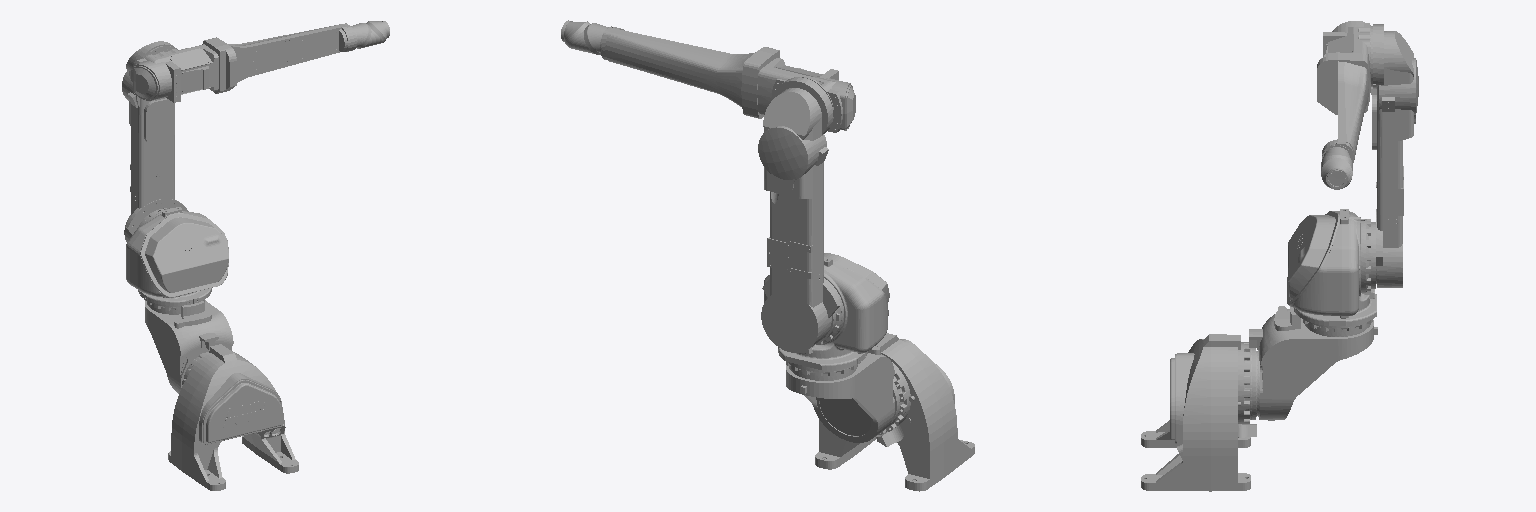
robot.urdf — irb5500_7axis:
<?xml version="1.0" ?>
<!-- =================================================================================== -->
<!-- |    This document was autogenerated by xacro from [local-path]/src/abb_irb5500_7axis_support/abb_irb5500_7axis_support/urdf/irb5500_7axis.xacro | -->
<!-- |    EDITING THIS FILE BY HAND IS NOT RECOMMENDED                                 | -->
<!-- =================================================================================== -->
<robot name="irb5500_7axis">
    <material name="silver">
        <color rgba="0.700 0.700 0.700 1.000" />
    </material>
    <transmission name="joint_7_tran">
        <type>transmission_interface/SimpleTransmission</type>
        <joint name="joint_7">
            <hardwareInterface>hardware_interface/EffortJointInterface</hardwareInterface>
        </joint>
        <actuator name="joint_7_actr">
            <hardwareInterface>hardware_interface/EffortJointInterface</hardwareInterface>
            <mechanicalReduction>1</mechanicalReduction>
        </actuator>
    </transmission>
    <transmission name="joint_1_tran">
        <type>transmission_interface/SimpleTransmission</type>
        <joint name="joint_1">
            <hardwareInterface>hardware_interface/EffortJointInterface</hardwareInterface>
        </joint>
        <actuator name="joint_1_actr">
            <hardwareInterface>hardware_interface/EffortJointInterface</hardwareInterface>
            <mechanicalReduction>1</mechanicalReduction>
        </actuator>
    </transmission>
    <transmission name="joint_2_tran">
        <type>transmission_interface/SimpleTransmission</type>
        <joint name="joint_2">
            <hardwareInterface>hardware_interface/EffortJointInterface</hardwareInterface>
        </joint>
        <actuator name="joint_2_actr">
            <hardwareInterface>hardware_interface/EffortJointInterface</hardwareInterface>
            <mechanicalReduction>1</mechanicalReduction>
        </actuator>
    </transmission>
    <transmission name="joint_3_tran">
        <type>transmission_interface/SimpleTransmission</type>
        <joint name="joint_3">
            <hardwareInterface>hardware_interface/EffortJointInterface</hardwareInterface>
        </joint>
        <actuator name="joint_3_actr">
            <hardwareInterface>hardware_interface/EffortJointInterface</hardwareInterface>
            <mechanicalReduction>1</mechanicalReduction>
        </actuator>
    </transmission>
    <transmission name="joint_4_tran">
        <type>transmission_interface/SimpleTransmission</type>
        <joint name="joint_4">
            <hardwareInterface>hardware_interface/EffortJointInterface</hardwareInterface>
        </joint>
        <actuator name="joint_4_actr">
            <hardwareInterface>hardware_interface/EffortJointInterface</hardwareInterface>
            <mechanicalReduction>1</mechanicalReduction>
        </actuator>
    </transmission>
    <transmission name="joint_5_tran">
        <type>transmission_interface/SimpleTransmission</type>
        <joint name="joint_5">
            <hardwareInterface>hardware_interface/EffortJointInterface</hardwareInterface>
        </joint>
        <actuator name="joint_5_actr">
            <hardwareInterface>hardware_interface/EffortJointInterface</hardwareInterface>
            <mechanicalReduction>1</mechanicalReduction>
        </actuator>
    </transmission>
    <transmission name="joint_6_tran">
        <type>transmission_interface/SimpleTransmission</type>
        <joint name="joint_6">
            <hardwareInterface>hardware_interface/EffortJointInterface</hardwareInterface>
        </joint>
        <actuator name="joint_6_actr">
            <hardwareInterface>hardware_interface/EffortJointInterface</hardwareInterface>
            <mechanicalReduction>1</mechanicalReduction>
        </actuator>
    </transmission>
    <gazebo>
        <plugin filename="libgazebo_ros_control.so" name="control" />
        <plugin name="gazebo_ros_control">
            <robotNamespace>/</robotNamespace>
        </plugin>
    </gazebo>
    <gazebo reference="base_link">
        <material>Gazebo/Silver</material>
        <mu1>0.2</mu1>
        <mu2>0.2</mu2>
        <selfCollide>true</selfCollide>
        <gravity>true</gravity>
    </gazebo>
    <gazebo reference="link_1_1">
        <material>Gazebo/Silver</material>
        <mu1>0.2</mu1>
        <mu2>0.2</mu2>
        <selfCollide>true</selfCollide>
    </gazebo>
    <gazebo reference="link_2_1">
        <material>Gazebo/Silver</material>
        <mu1>0.2</mu1>
        <mu2>0.2</mu2>
        <selfCollide>true</selfCollide>
    </gazebo>
    <gazebo reference="link_3_1">
        <material>Gazebo/Silver</material>
        <mu1>0.2</mu1>
        <mu2>0.2</mu2>
        <selfCollide>true</selfCollide>
    </gazebo>
    <gazebo reference="link_4_1">
        <material>Gazebo/Silver</material>
        <mu1>0.2</mu1>
        <mu2>0.2</mu2>
        <selfCollide>true</selfCollide>
    </gazebo>
    <gazebo reference="link_5_1">
        <material>Gazebo/Silver</material>
        <mu1>0.2</mu1>
        <mu2>0.2</mu2>
        <selfCollide>true</selfCollide>
    </gazebo>
    <gazebo reference="link_6_1">
        <material>Gazebo/Silver</material>
        <mu1>0.2</mu1>
        <mu2>0.2</mu2>
        <selfCollide>true</selfCollide>
    </gazebo>
    <gazebo reference="link_7_1">
        <material>Gazebo/Silver</material>
        <mu1>0.2</mu1>
        <mu2>0.2</mu2>
        <selfCollide>true</selfCollide>
    </gazebo>
    <gazebo reference="link_8_1">
        <material>Gazebo/Silver</material>
        <mu1>0.2</mu1>
        <mu2>0.2</mu2>
        <selfCollide>true</selfCollide>
    </gazebo>
    <link name="base_link">
        <inertial>
            <origin rpy="0 0 0" xyz="0.018926671403852433 0.03635439701106554 0.40145852174959484" />
            <mass value="1107.0385298863" />
            <inertia ixx="61.225944" ixy="-0.092907" ixz="0.046518" iyy="90.595486" iyz="-6.385665" izz="64.881264" />
        </inertial>
        <visual>
            <origin rpy="0 0 0" xyz="0 0 0" />
            <geometry>
                <mesh filename="package://abb_irb5500_7axis_support/meshes/base_link.stl" scale="0.001 0.001 0.001" />
            </geometry>
            <material name="silver" />
        </visual>
        <collision>
            <origin rpy="0 0 0" xyz="0 0 0" />
            <geometry>
                <mesh filename="package://abb_irb5500_7axis_support/meshes/base_link.stl" scale="0.001 0.001 0.001" />
            </geometry>
        </collision>
    </link>
    <link name="link_1_1">
        <inertial>
            <origin rpy="0 0 0" xyz="0.0011555100547077264 0.24509135858373476 0.17382144663815557" />
            <mass value="514.8648420210297" />
            <inertia ixx="30.992741" ixy="-0.046007" ixz="0.056101" iyy="22.570346" iyz="-10.318452" izz="23.26715" />
        </inertial>
        <visual>
            <origin rpy="0 0 0" xyz="-0.01678 -0.29242 -0.53198" />
            <geometry>
                <mesh filename="package://abb_irb5500_7axis_support/meshes/link_1_1.stl" scale="0.001 0.001 0.001" />
            </geometry>
            <material name="silver" />
        </visual>
        <collision>
            <origin rpy="0 0 0" xyz="-0.01678 -0.29242 -0.53198" />
            <geometry>
                <mesh filename="package://abb_irb5500_7axis_support/meshes/link_1_1.stl" scale="0.001 0.001 0.001" />
            </geometry>
        </collision>
    </link>
    <link name="link_2_1">
        <inertial>
            <origin rpy="0 0 0" xyz="0.0012491514615240729 -0.025583333888403836 0.34431214152787903" />
            <mass value="1176.3951689096798" />
            <inertia ixx="50.070546" ixy="-0.026244" ixz="-0.030935" iyy="64.129491" iyz="-1.140556" izz="51.509297" />
        </inertial>
        <visual>
            <origin rpy="0 0 0" xyz="-0.018328 -0.77042 -0.929477" />
            <geometry>
                <mesh filename="package://abb_irb5500_7axis_support/meshes/link_2_1.stl" scale="0.001 0.001 0.001" />
            </geometry>
            <material name="silver" />
        </visual>
        <collision>
            <origin rpy="0 0 0" xyz="-0.018328 -0.77042 -0.929477" />
            <geometry>
                <mesh filename="package://abb_irb5500_7axis_support/meshes/link_2_1.stl" scale="0.001 0.001 0.001" />
            </geometry>
        </collision>
    </link>
    <link name="link_3_1">
        <inertial>
            <origin rpy="0 0 0" xyz="0.0028689107223312145 0.08648406695372635 0.6879406498154552" />
            <mass value="723.6999417468929" />
            <inertia ixx="160.032498" ixy="-0.024939" ixz="-0.618553" iyy="163.23224" iyz="-2.562707" izz="8.467489" />
        </inertial>
        <visual>
            <origin rpy="0 0 0" xyz="-0.020026 -1.00142 -1.365474" />
            <geometry>
                <mesh filename="package://abb_irb5500_7axis_support/meshes/link_3_1.stl" scale="0.001 0.001 0.001" />
            </geometry>
            <material name="silver" />
        </visual>
        <collision>
            <origin rpy="0 0 0" xyz="-0.020026 -1.00142 -1.365474" />
            <geometry>
                <mesh filename="package://abb_irb5500_7axis_support/meshes/link_3_1.stl" scale="0.001 0.001 0.001" />
            </geometry>
        </collision>
    </link>
    <link name="link_4_1">
        <inertial>
            <origin rpy="0 0 0" xyz="0.3972513240326173 -0.14845866938299856 -0.0010321643174204809" />
            <mass value="607.3432804807295" />
            <inertia ixx="6.246992" ixy="3.559257" ixz="0.437972" iyy="118.657638" iyz="0.030035" izz="118.264451" />
        </inertial>
        <visual>
            <origin rpy="0 0 0" xyz="-0.02509 -0.98742 -2.665464" />
            <geometry>
                <mesh filename="package://abb_irb5500_7axis_support/meshes/link_4_1.stl" scale="0.001 0.001 0.001" />
            </geometry>
            <material name="silver" />
        </visual>
        <collision>
            <origin rpy="0 0 0" xyz="-0.02509 -0.98742 -2.665464" />
            <geometry>
                <mesh filename="package://abb_irb5500_7axis_support/meshes/link_4_1.stl" scale="0.001 0.001 0.001" />
            </geometry>
        </collision>
    </link>
    <link name="link_5_1">
        <inertial>
            <origin rpy="0 0 0" xyz="0.04510451484501843 -1.6966850335808914e-07 0.015465258143359417" />
            <mass value="13.246564877496217" />
            <inertia ixx="0.04349" ixy="0.0" ixz="-0.006399" iyy="0.02917" iyz="-0.0" izz="0.036873" />
        </inertial>
        <visual>
            <origin rpy="0 0 0" xyz="-1.466079 -0.76542 -2.659851" />
            <geometry>
                <mesh filename="package://abb_irb5500_7axis_support/meshes/link_5_1.stl" scale="0.001 0.001 0.001" />
            </geometry>
            <material name="silver" />
        </visual>
        <collision>
            <origin rpy="0 0 0" xyz="-1.466079 -0.76542 -2.659851" />
            <geometry>
                <mesh filename="package://abb_irb5500_7axis_support/meshes/link_5_1.stl" scale="0.001 0.001 0.001" />
            </geometry>
        </collision>
    </link>
    <link name="link_6_1">
        <inertial>
            <origin rpy="0 0 0" xyz="0.059847742372347135 -3.194301083642159e-07 -0.022734536484888768" />
            <mass value="22.90378370207616" />
            <inertia ixx="0.078074" ixy="-0.0" ixz="7.3e-05" iyy="0.075709" iyz="0.0" izz="0.096705" />
        </inertial>
        <visual>
            <origin rpy="0 0 0" xyz="-1.54048 -0.76542 -2.65612" />
            <geometry>
                <mesh filename="package://abb_irb5500_7axis_support/meshes/link_6_1.stl" scale="0.001 0.001 0.001" />
            </geometry>
            <material name="silver" />
        </visual>
        <collision>
            <origin rpy="0 0 0" xyz="-1.54048 -0.76542 -2.65612" />
            <geometry>
                <mesh filename="package://abb_irb5500_7axis_support/meshes/link_6_1.stl" scale="0.001 0.001 0.001" />
            </geometry>
        </collision>
    </link>
    <link name="link_7_1">
        <inertial>
            <origin rpy="0 0 0" xyz="0.027381461625446413 -4.779980121716321e-07 0.014960336074338887" />
            <mass value="11.027488801145296" />
            <inertia ixx="0.031573" ixy="0.0" ixz="0.005881" iyy="0.022716" iyz="-0.0" izz="0.028182" />
        </inertial>
        <visual>
            <origin rpy="0 0 0" xyz="-1.660351 -0.76542 -2.655653" />
            <geometry>
                <mesh filename="package://abb_irb5500_7axis_support/meshes/link_7_1.stl" scale="0.001 0.001 0.001" />
            </geometry>
            <material name="silver" />
        </visual>
        <collision>
            <origin rpy="0 0 0" xyz="-1.660351 -0.76542 -2.655653" />
            <geometry>
                <mesh filename="package://abb_irb5500_7axis_support/meshes/link_7_1.stl" scale="0.001 0.001 0.001" />
            </geometry>
        </collision>
    </link>
    <link name="link_8_1">
        <inertial>
            <origin rpy="0 0 0" xyz="0.004368020622074642 -0.00010515307768488302 -0.0001227284237961257" />
            <mass value="0.35749934255251287" />
            <inertia ixx="0.001069" ixy="-0.0" ixz="-2e-06" iyy="0.000548" iyz="-5e-06" izz="0.000527" />
        </inertial>
        <visual>
            <origin rpy="0 0 0" xyz="-1.737286 -0.76542 -2.658795" />
            <geometry>
                <mesh filename="package://abb_irb5500_7axis_support/meshes/link_8_1.stl" scale="0.001 0.001 0.001" />
            </geometry>
            <material name="silver" />
        </visual>
        <collision>
            <origin rpy="0 0 0" xyz="-1.737286 -0.76542 -2.658795" />
            <geometry>
                <mesh filename="package://abb_irb5500_7axis_support/meshes/link_8_1.stl" scale="0.001 0.001 0.001" />
            </geometry>
        </collision>
    </link>
    <link name="temp_7" />
    <joint name="joint_7" type="revolute">
        <origin rpy="0 0 0" xyz="0 0 0" />
        <parent link="temp_7" />
        <child link="link_1_1" />
        <axis xyz="0.0 -1.0 0.0" />
        <mimic joint="joint_7_deg" multiplier="17.4533" offset="0" />
        <limit effort="100" lower="-2.356194" upper="2.356194" velocity="100" />
    </joint>
    <joint name="joint_1" type="revolute">
        <origin rpy="0 0 0" xyz="0.001548 0.478 0.397497" />
        <parent link="link_1_1" />
        <child link="link_2_1" />
        <axis xyz="0.003895 -0.0 0.999992" />
        <limit effort="100" lower="-0.261799" upper="3.403392" velocity="100" />
    </joint>
    <joint name="joint_2" type="revolute">
        <origin rpy="0 0 0" xyz="0.001698 0.231 0.435997" />
        <parent link="link_2_1" />
        <child link="link_3_1" />
        <axis xyz="0.0 1.0 0.0" />
        <limit effort="100" lower="-1.134464" upper="2.617994" velocity="100" />
    </joint>
    <joint name="joint_3" type="revolute">
        <origin rpy="0 0 0" xyz="0.005064 -0.014 1.29999" />
        <parent link="link_3_1" />
        <child link="link_4_1" />
        <axis xyz="-0.0 1.0 -0.0" />
        <limit effort="100" lower="-1.22173" upper="1.22173" velocity="100" />
    </joint>
    <joint name="joint_4" type="revolute">
        <origin rpy="0 0 0" xyz="1.440989 -0.222 -0.005613" />
        <parent link="link_4_1" />
        <child link="link_5_1" />
        <axis xyz="0.999992 -0.0 -0.003895" />
        <limit effort="100" lower="-6.0" upper="6.0" velocity="100" />
    </joint>
    <joint name="joint_5" type="revolute">
        <origin rpy="0 0 0" xyz="0.074401 0.0 -0.003731" />
        <parent link="link_5_1" />
        <child link="link_6_1" />
        <axis xyz="0.816912 -0.0 -0.576763" />
        <limit effort="100" lower="-6.0" upper="6.0" velocity="100" />
    </joint>
    <joint name="joint_8" type="fixed">
        <origin rpy="0 0 0" xyz="0.119871 0.0 -0.000467" />
        <parent link="link_6_1" />
        <child link="link_7_1" />
    </joint>
    <joint name="joint_6" type="revolute">
        <origin rpy="0 0 0" xyz="0.076935 0.0 0.003142" />
        <parent link="link_7_1" />
        <child link="link_8_1" />
        <axis xyz="0.999992 -0.0 -0.003895" />
        <limit effort="100" lower="-6.0" upper="6.0" velocity="100" />
    </joint>
    <joint name="joint_7_deg" type="revolute">
        <origin rpy="0 0 0" xyz="0.01678 0.29242 0.53198" />
        <parent link="base_link" />
        <child link="temp_7" />
        <axis xyz="0.0 -1.0 0.0" />
        <limit effort="100" lower="-0.134307342" upper="0.134307342" velocity="100" />
    </joint>
    <link name="world" />
    <joint name="world_joint" type="fixed">
        <origin rpy="0 0 0" xyz="0 0 0" />
        <parent link="world" />
        <child link="base_link" />
    </joint>
    <transmission name="trans_joint_7_deg">
        <type>transmission_interface/SimpleTransmission</type>
        <joint name="joint_7_deg">
            <hardwareInterface>hardware_interface/EffortJointInterface</hardwareInterface>
        </joint>
        <actuator name="joint_7_deg_motor">
            <hardwareInterface>hardware_interface/EffortJointInterface</hardwareInterface>
            <mechanicalReduction>1</mechanicalReduction>
        </actuator>
    </transmission>
</robot>

--- Render facts (derived) ---
3 views of the same robot in one strip: view 1: azimuth 30°, elevation 25°; view 2: azimuth 150°, elevation 25°; view 3: azimuth 270°, elevation 25° (orthographic).
Robot: irb5500_7axis — 11 links, 10 joints (8 revolute, 2 fixed); root link world; default pose: every joint at zero.
Visible links, largest first — view 1: base_link, link_4_1, link_2_1, link_3_1, link_1_1; view 2: link_3_1, base_link, link_4_1, link_2_1, link_1_1; view 3: base_link, link_2_1, link_3_1, link_1_1, link_4_1, link_7_1.
Boxes of the visible links, <box> form: base_link: <box>168,344,298,490</box>; link_4_1: <box>132,23,356,102</box>; link_2_1: <box>126,207,228,313</box>; link_3_1: <box>122,41,188,241</box>; link_1_1: <box>145,300,233,393</box>; link_3_1: <box>758,77,840,352</box>; base_link: <box>815,333,974,491</box>; link_4_1: <box>601,26,855,132</box>; link_2_1: <box>764,253,889,379</box>; link_1_1: <box>786,345,894,442</box>; base_link: <box>1141,334,1257,491</box>; link_2_1: <box>1287,209,1376,335</box>; link_3_1: <box>1371,24,1418,287</box>; link_1_1: <box>1249,306,1377,420</box>; link_4_1: <box>1317,21,1372,162</box>; link_7_1: <box>1321,158,1352,188</box>.
Bounding box of the posed robot: 2.1 × 1.64 × 2.85 m (x, y, z).
9 mesh visuals loaded from 9 distinct referenced files (9 binary STL).